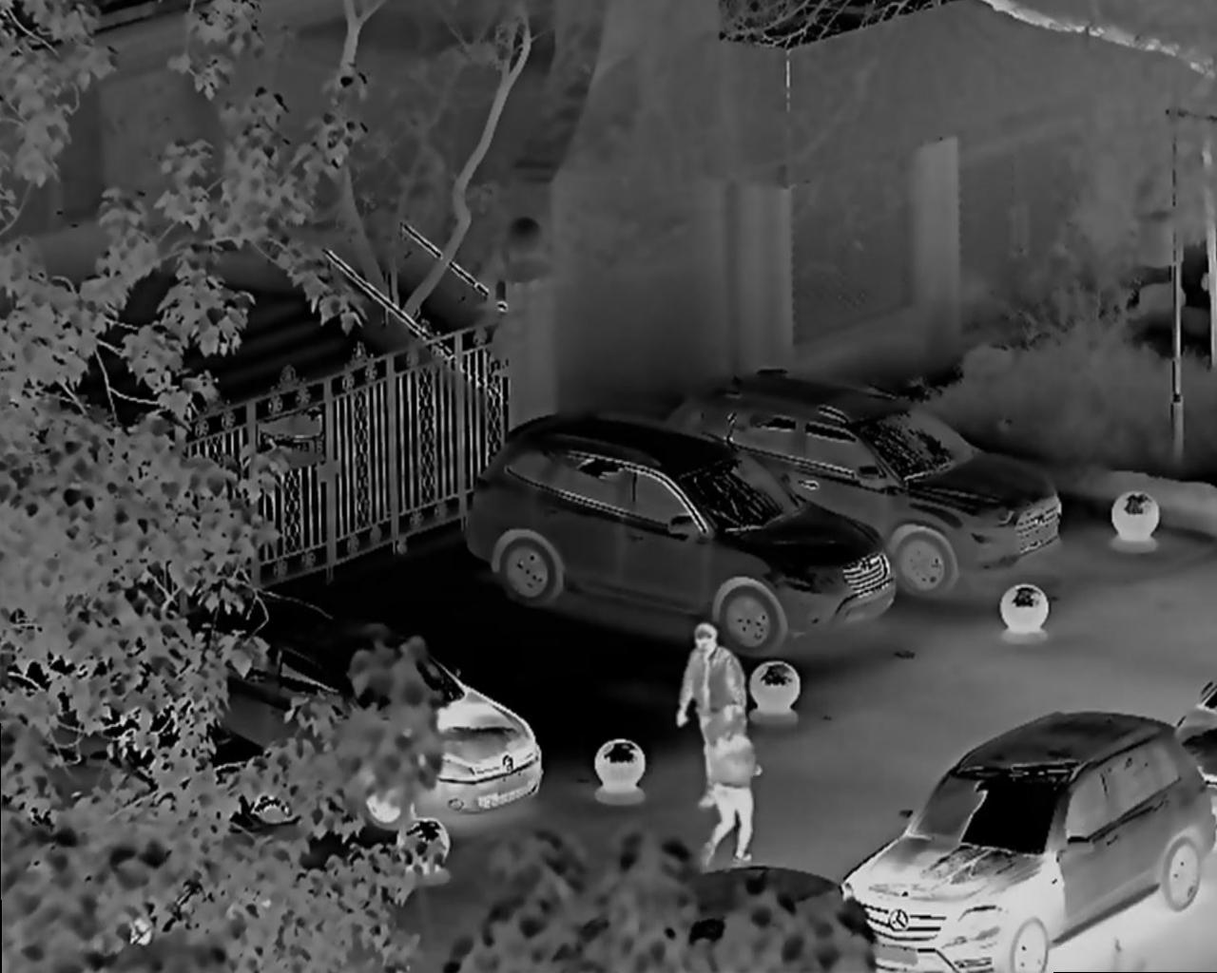person: (701, 697, 756, 863), (691, 624, 757, 708)
